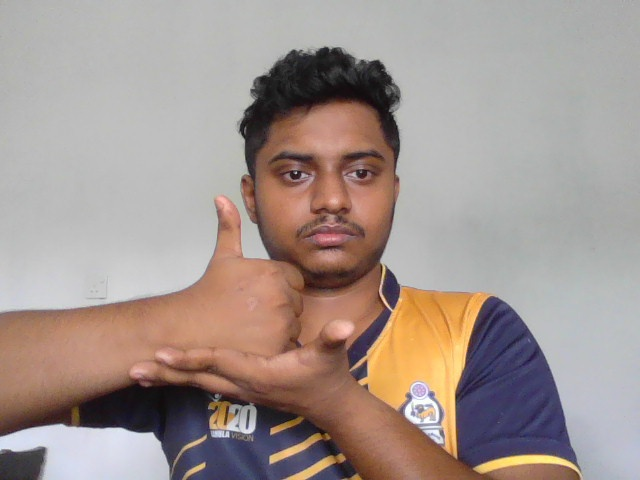Help: (128, 193, 370, 407)
